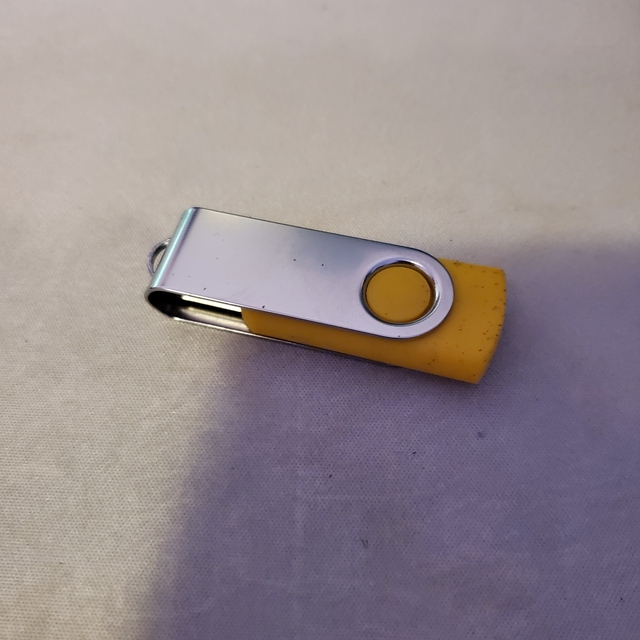usb_drive: (140, 190, 515, 399)
